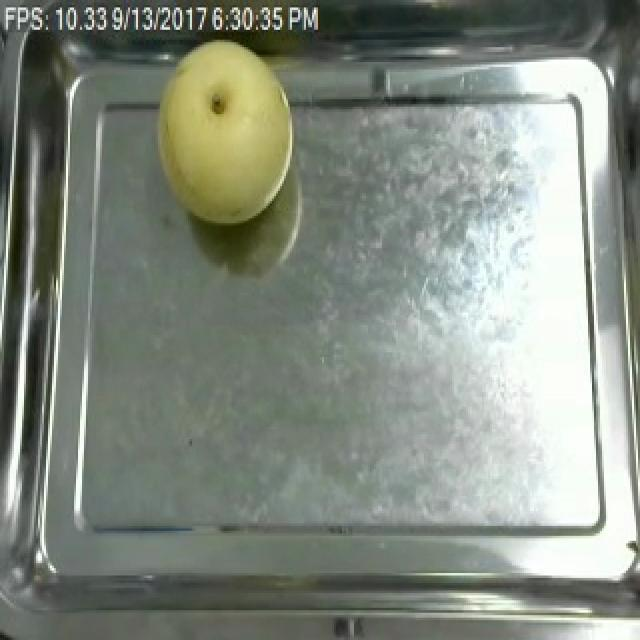Fruit: (146, 27, 302, 233)
